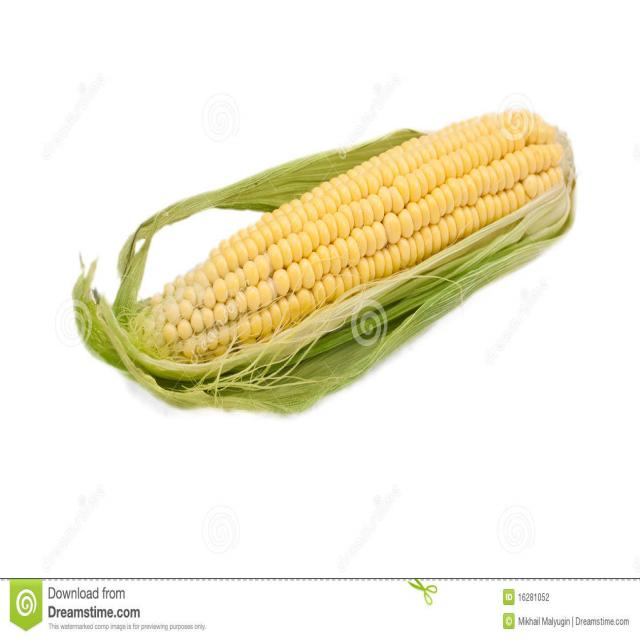corn: (141, 105, 574, 367)
